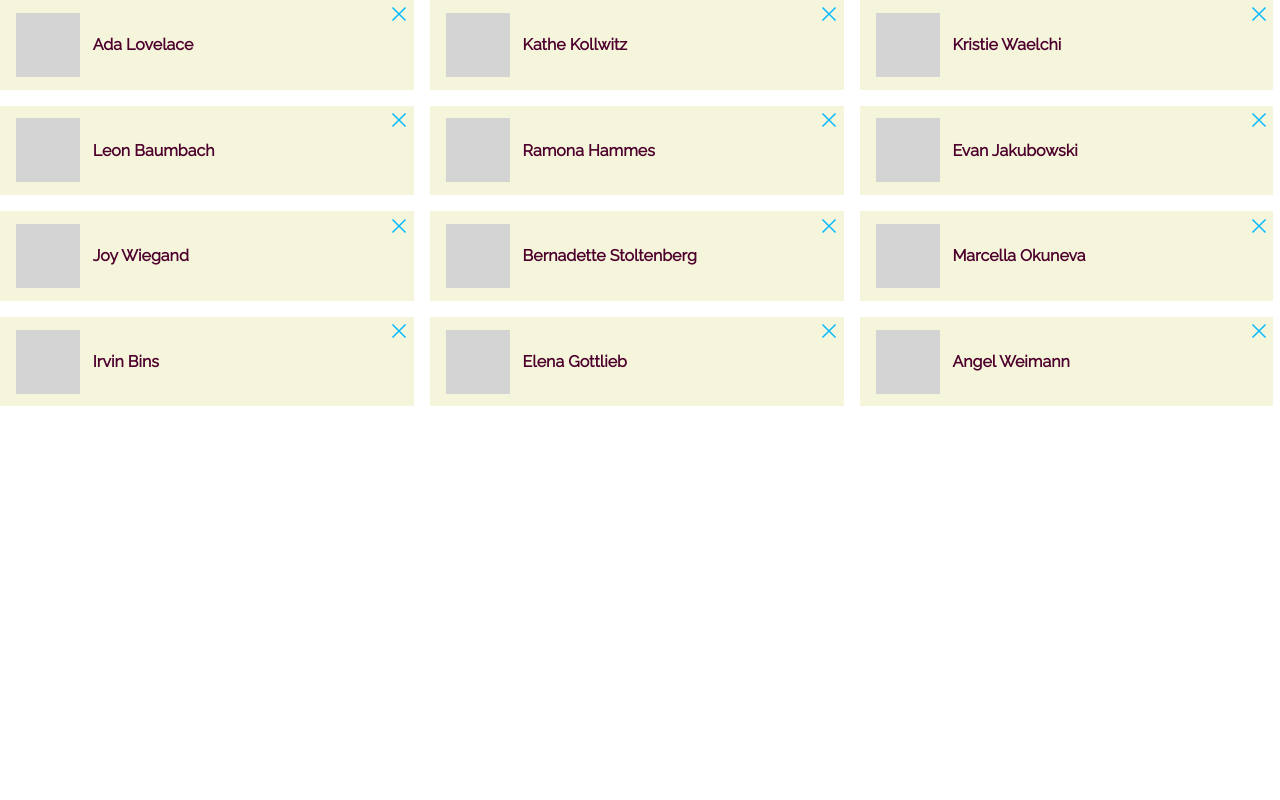
Delete employee modal › clicking on the cancel button hides the confirm delete modal
The width and height of the screenshot is (1280, 800).
Expected: the heading "Ada Lovelace" is shown, x1=93 y1=35 x2=193 y2=54
Click the 1st button named "Delete employee": click(399, 14) x1=391 y1=6 x2=407 y2=22
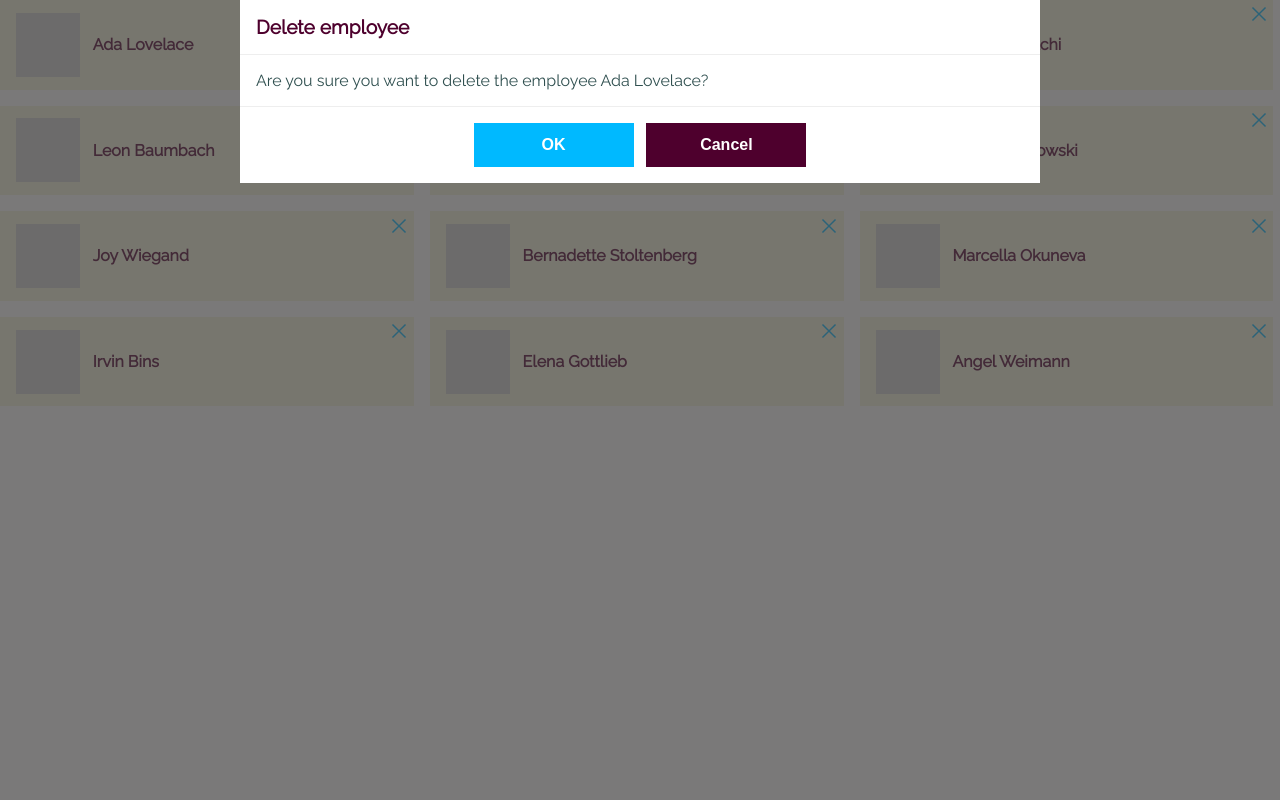
Expected: the text "Are you sure you want to delete the employee Ada Lovelace?" is shown, x1=240 y1=54 x2=1040 y2=107
Click the button "Cancel": click(726, 145) x1=646 y1=123 x2=806 y2=167
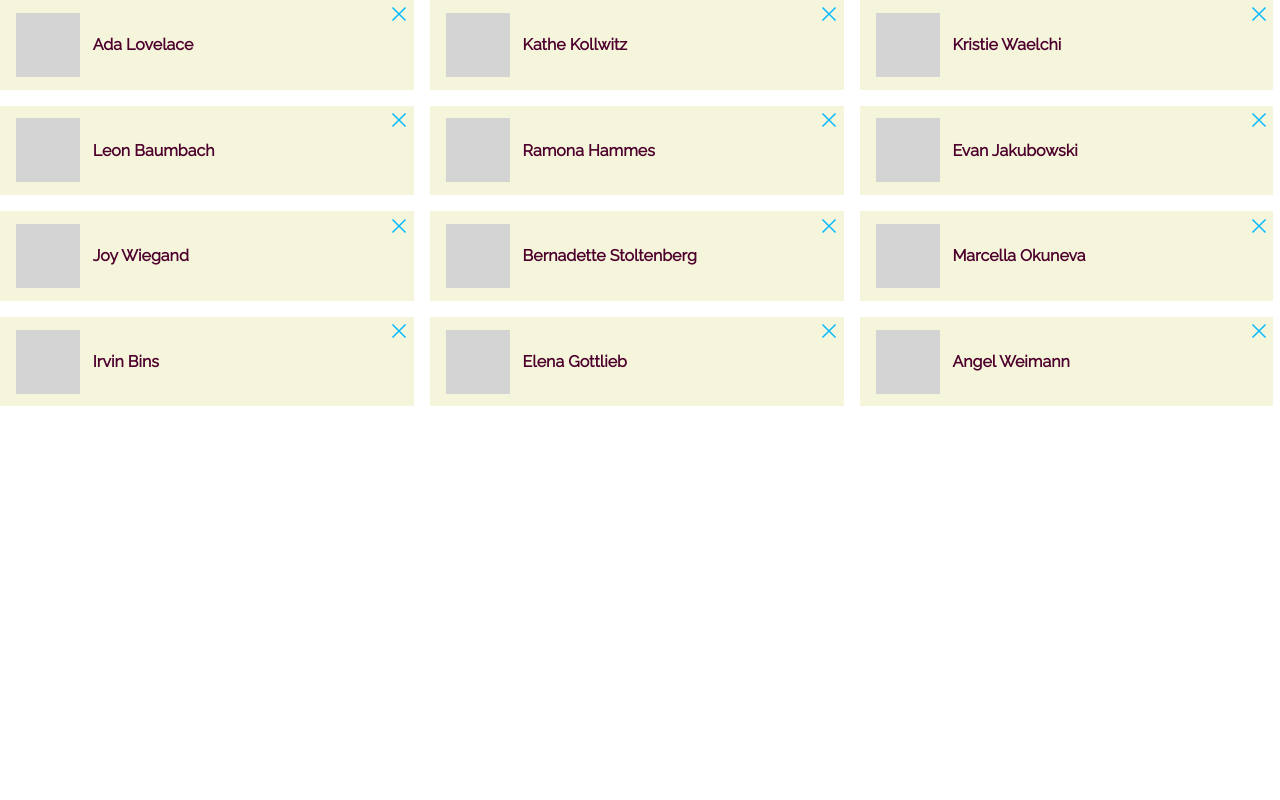
Expected: the text "Are you sure you want to delete the employee" is gone
